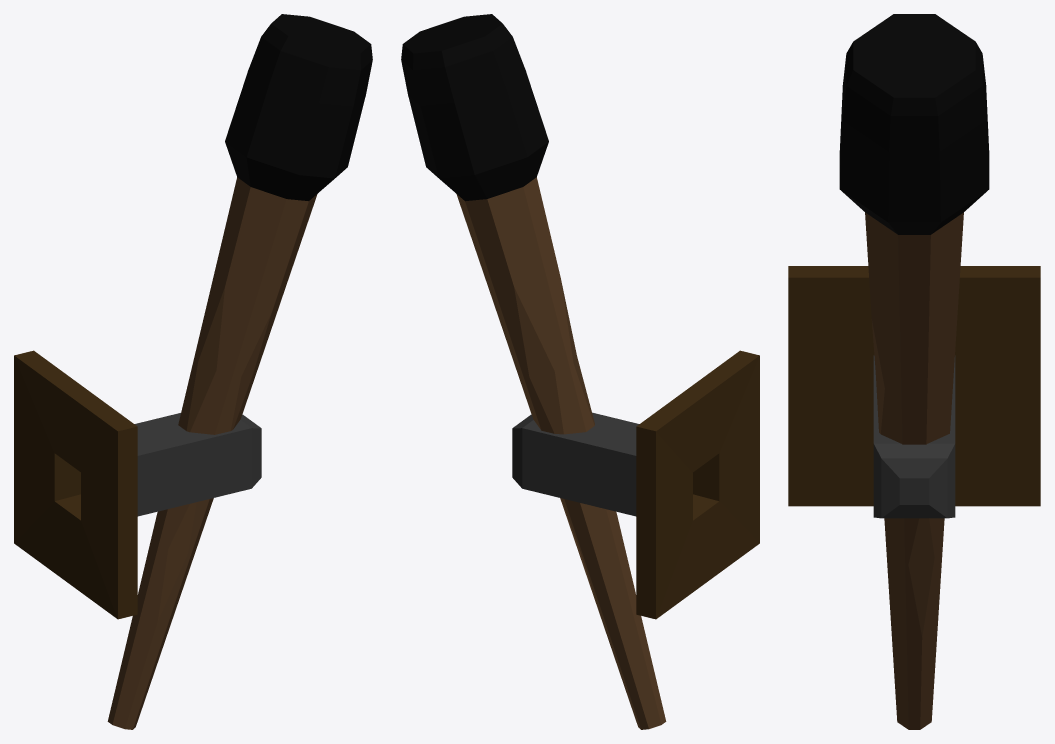
File: Torch_var_02.fbx
The picture shows the model from 3 angles, left to right: view 1: azimuth 30°, elevation 25°; view 2: azimuth 150°, elevation 25°; view 3: azimuth 270°, elevation 25°; orthographic projection. The views are drawn at different scales.
Visible parts, largest first — view 1: Torch_var_02, Torch_Holder; view 2: Torch_var_02, Torch_Holder; view 3: Torch_var_02, Torch_Holder.
Part boxes in pixels (bbox=[...]): Torch_var_02: bbox=[107, 14, 372, 729]; Torch_Holder: bbox=[14, 350, 261, 619]; Torch_var_02: bbox=[401, 14, 666, 729]; Torch_Holder: bbox=[512, 350, 759, 619]; Torch_var_02: bbox=[839, 14, 989, 729]; Torch_Holder: bbox=[788, 266, 1040, 518].
Size of the model in its own units: 59.01 by 125 by 35.69.
